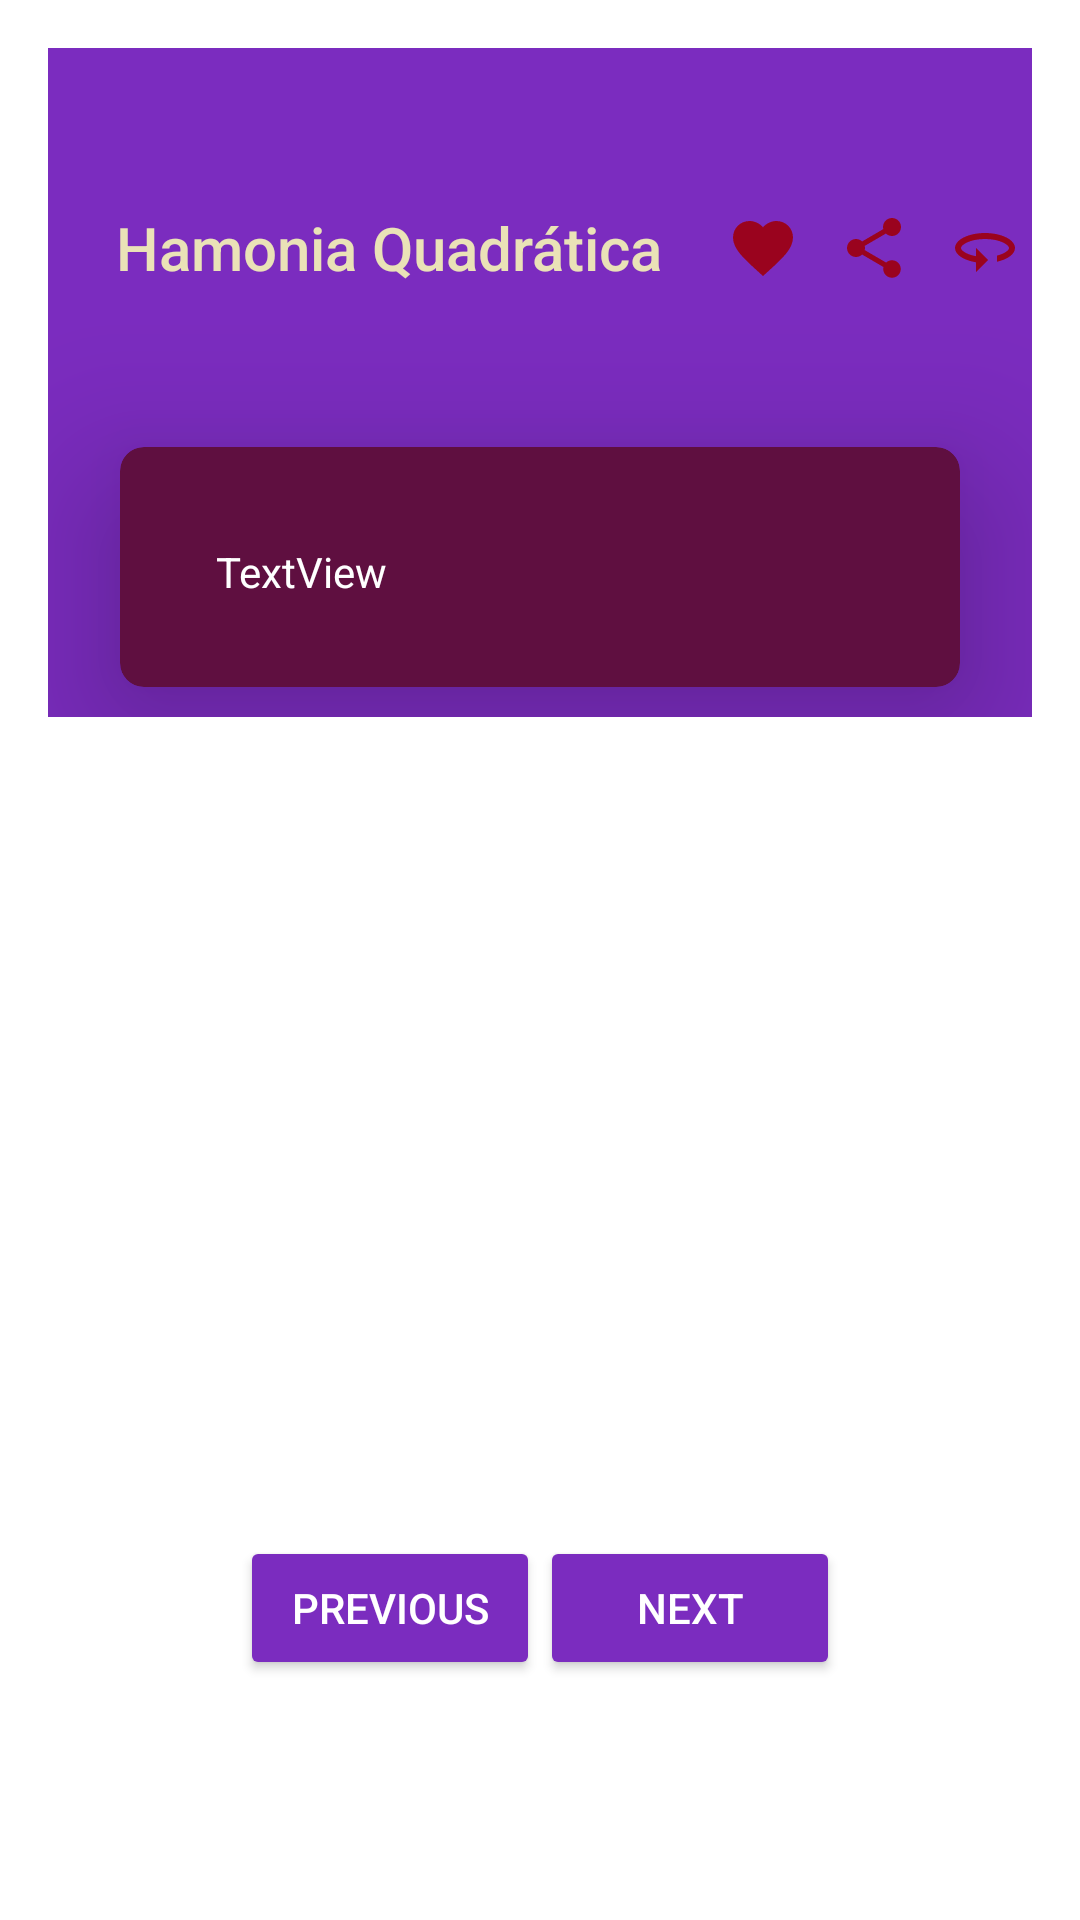

Icons on this 1080 x 1920 Android screen, each with its box as (x1,y1,x2,y2):
like: (733,221,793,276)
share: (847,218,901,278)
